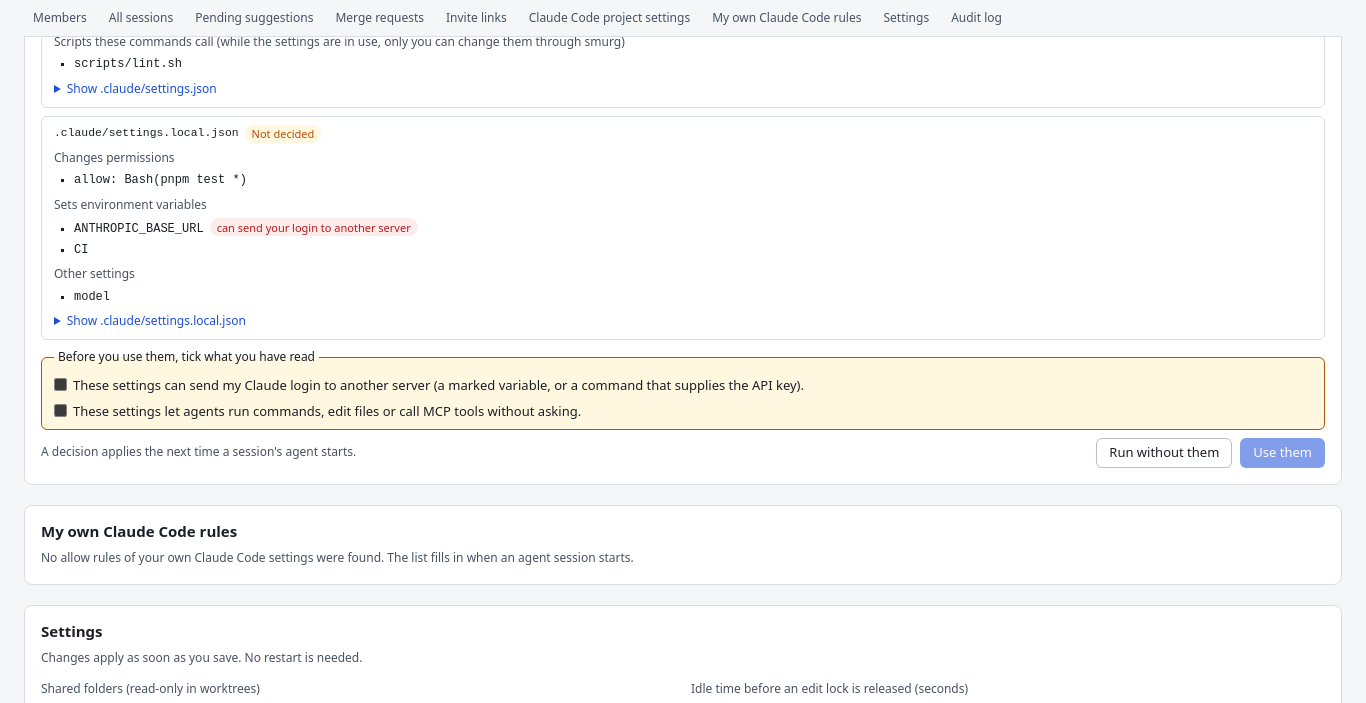
Scenario: host console: Claude Code project settings › "Use them" is enabled only after the ticks the contents need, and sends exactly the contents on screen
This screenshot has width=1366, height=703.
(page scrolled)
Expected: the button "Use them" is disabled, [1240,438,1325,468]
Click the checkbox named "These settings can send my Claude login to another server (a marked variable, or a command that supplies the API key).": (60, 384) [54,378,67,390]
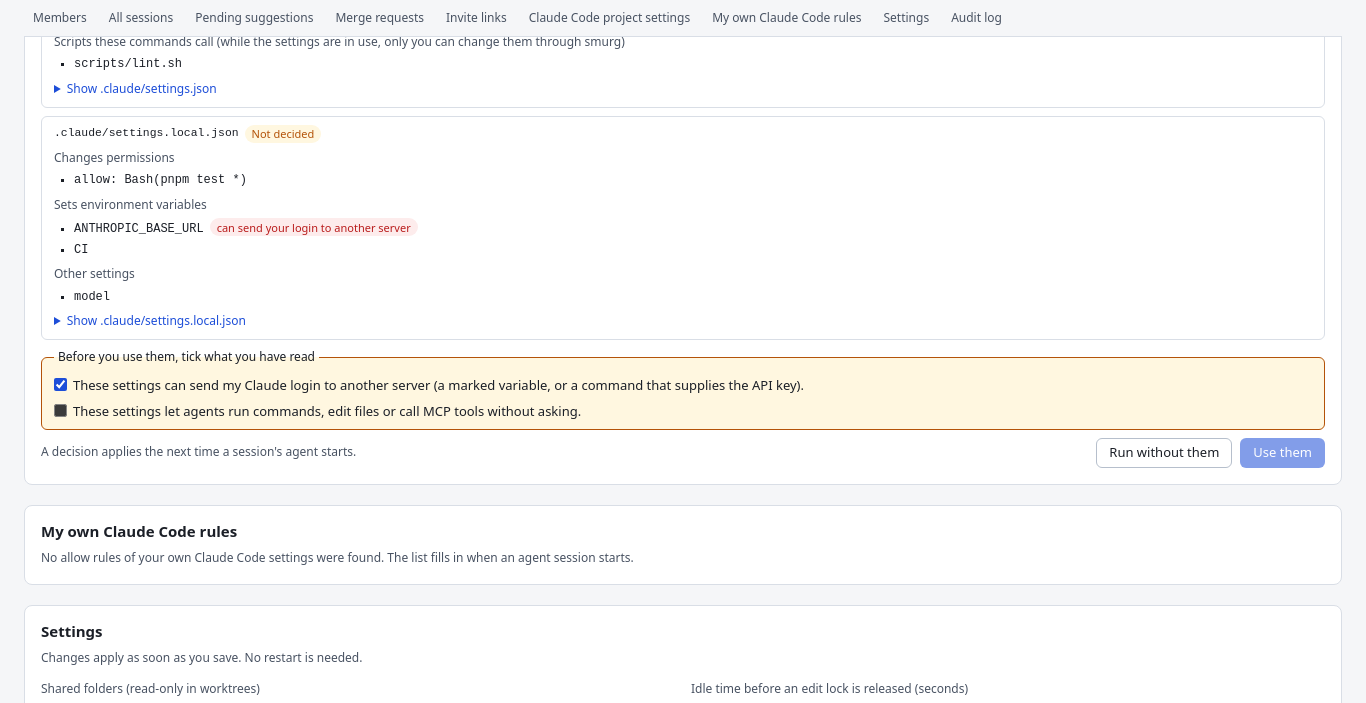
Expected: the button "Use them" is disabled, [1240,438,1325,468]
Click the checkbox named "These settings let agents run commands, edit files or call MCP tools without asking.": (60, 410) [54,404,67,417]
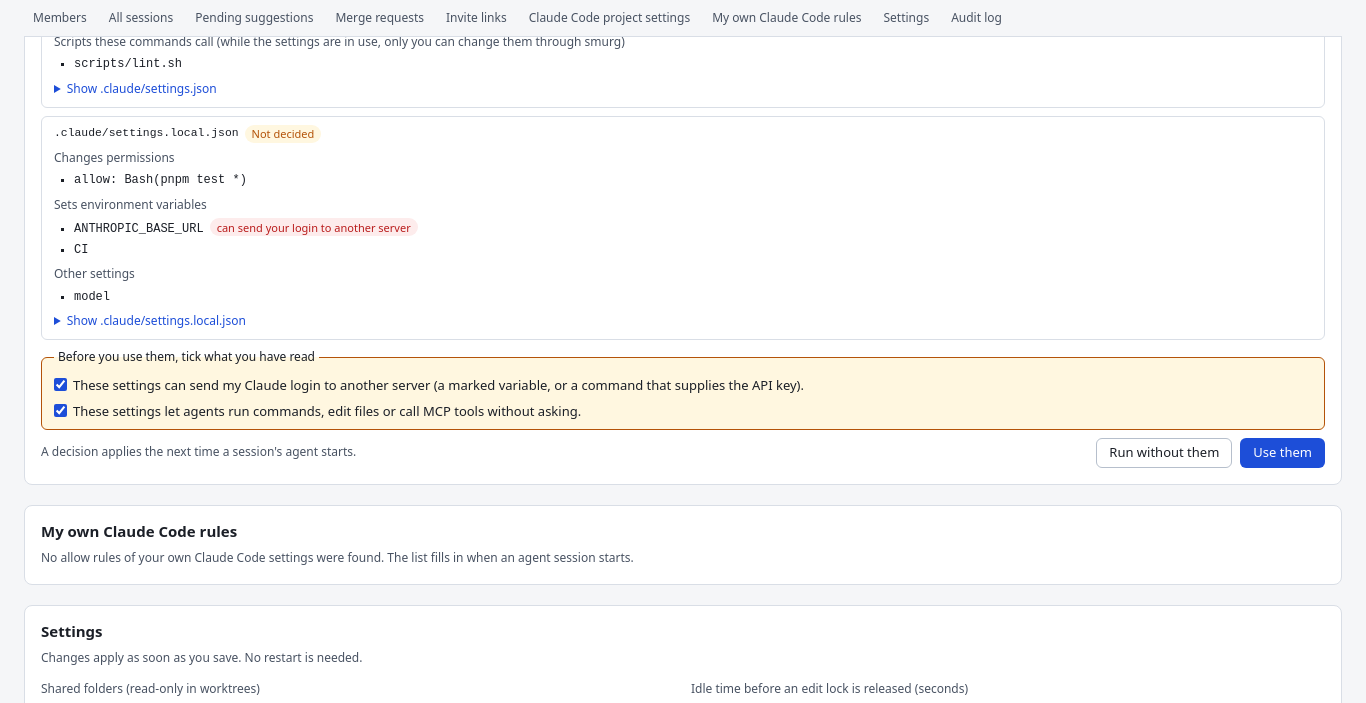
Expected: the button "Use them" is enabled
Click the button "Use them": (1283, 453) [1240,438,1325,468]
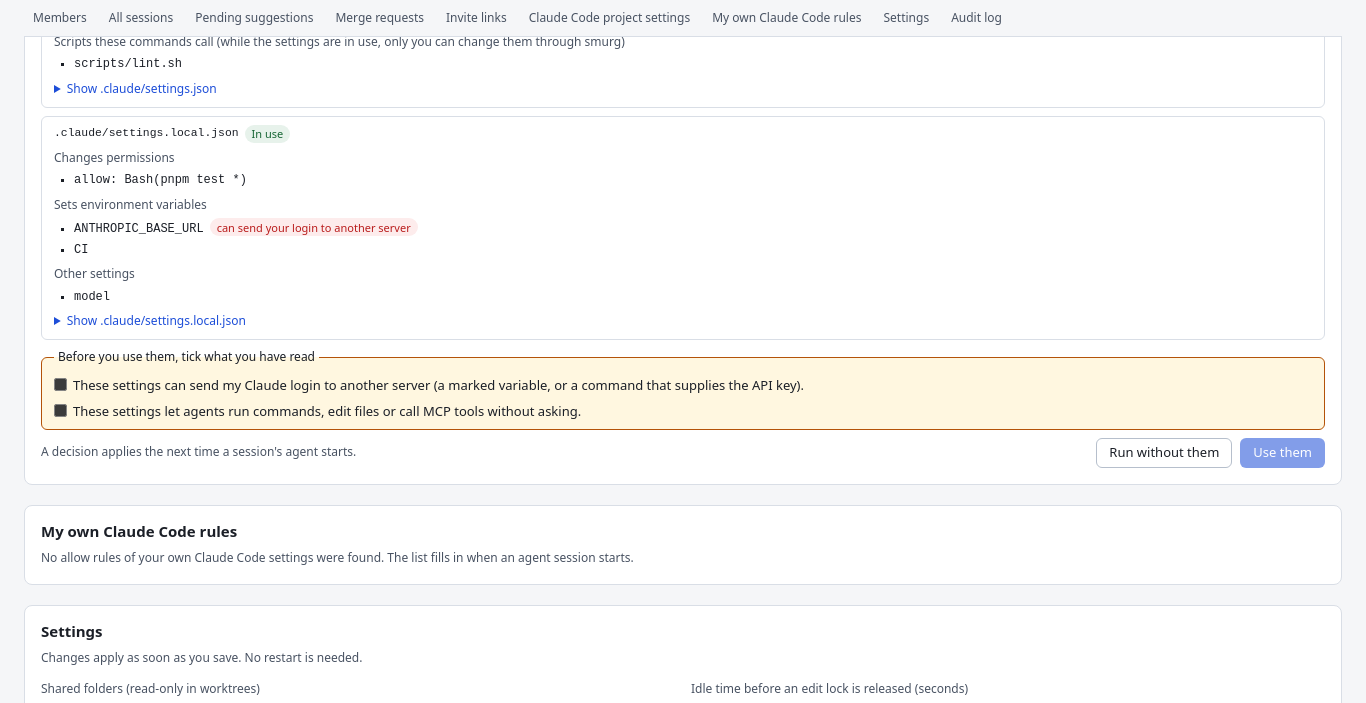
Expected: the button "Run without them" is enabled, [1096,438,1232,468]
Expected: the text "In use" is shown 2 times
Expected: the button "Use them" is disabled, [1240,438,1325,468]
